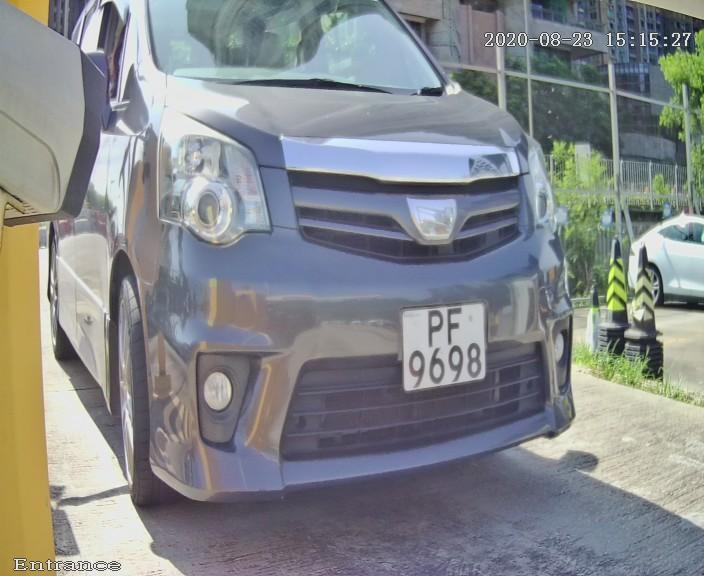License Plate: (393, 289, 494, 407)
